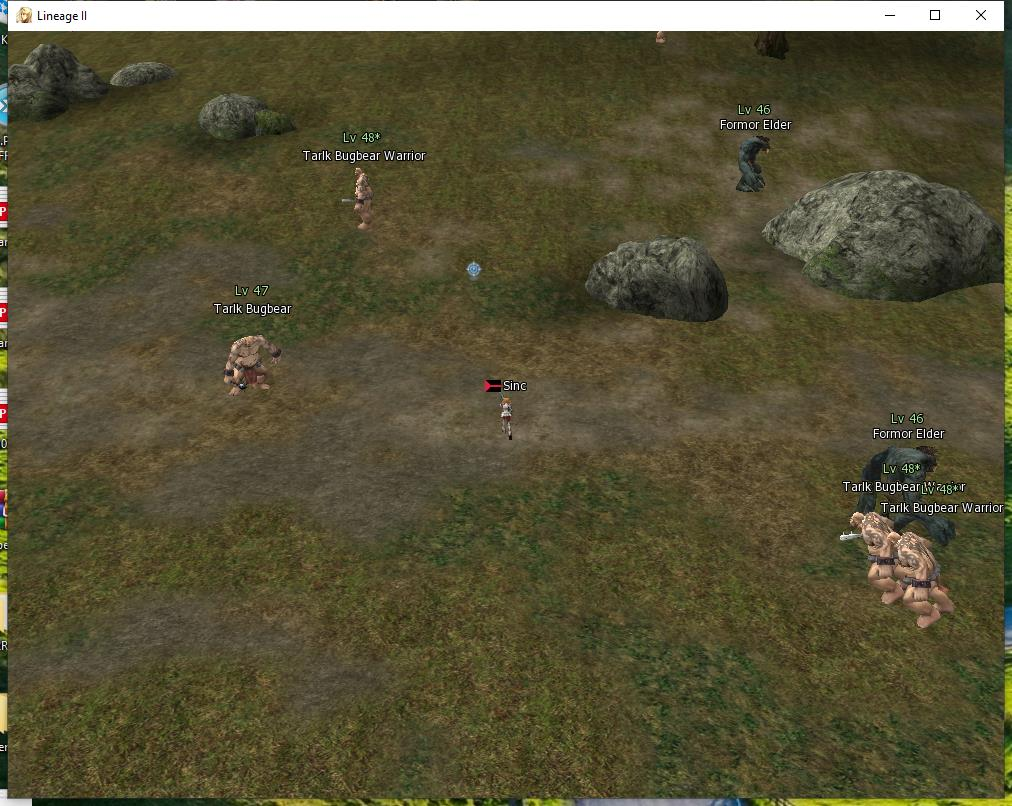monster: (842, 431, 976, 623), (297, 123, 437, 244), (201, 269, 309, 398), (721, 102, 787, 211)
